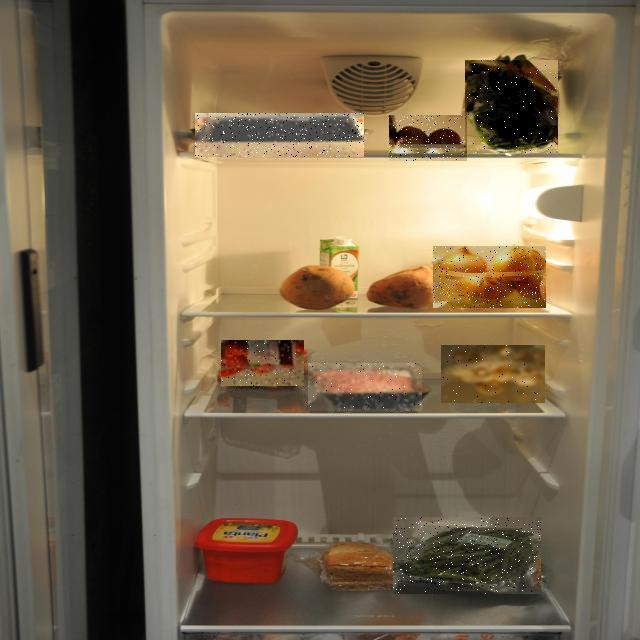egg: (155, 80, 622, 242)
mushroom: (168, 202, 640, 604)
onion: (160, 154, 640, 462)
tomato: (69, 193, 373, 579)
